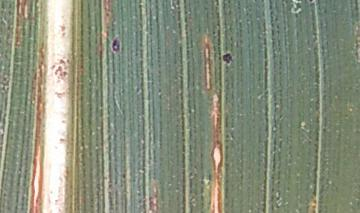tarspot: (217, 51, 235, 66), (110, 36, 122, 57)
